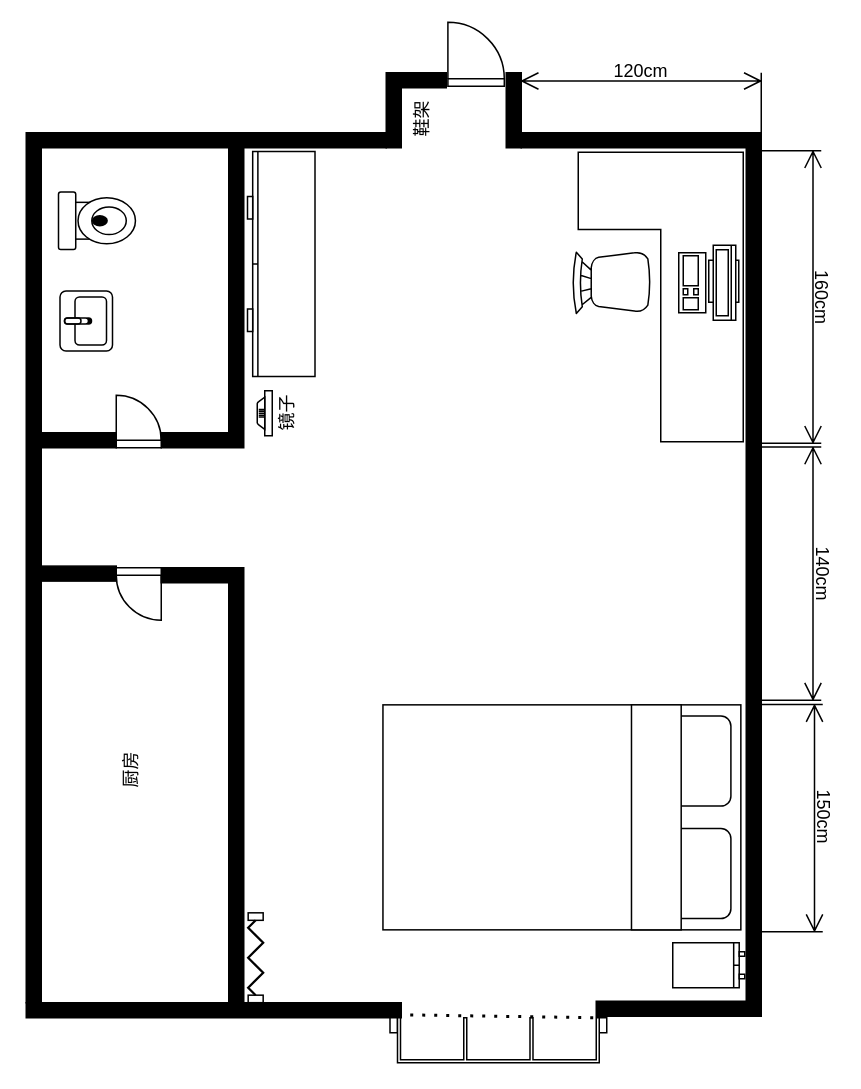
Image size: 861x1089. Some labels were removed from this diagram. The shapes that lost their labels are listed below. From the top down, each one's centre as x and y in pixels, then its label:
At (280,263): "衣柜".
At (78,573): "洗衣机".
